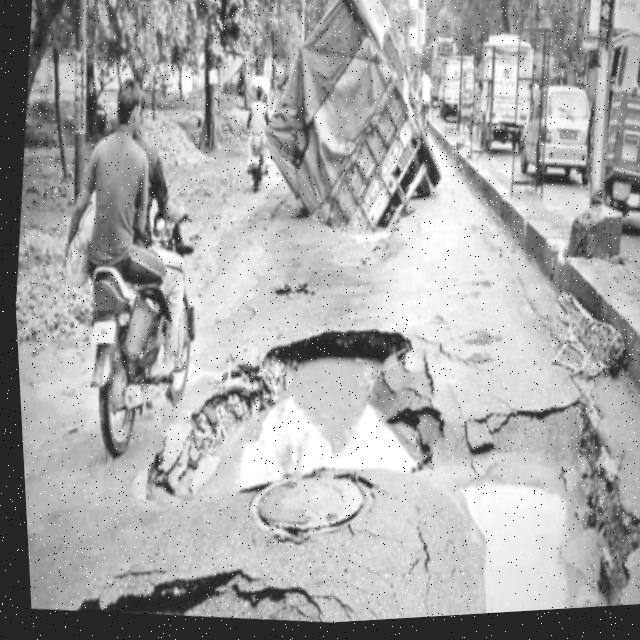Pothole: (442, 395, 638, 620), (203, 320, 433, 496), (77, 543, 307, 634), (335, 224, 388, 280)
